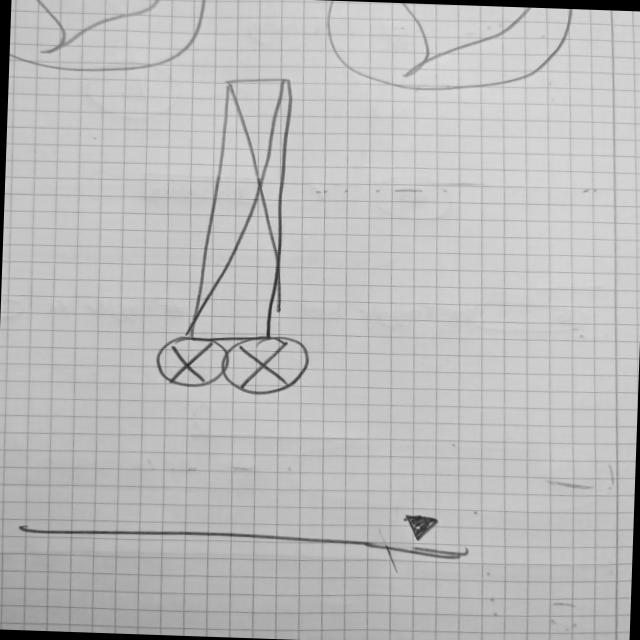icon-button: (323, 1, 576, 99), (9, 1, 212, 81)
image: (189, 73, 299, 345), (220, 335, 316, 399), (154, 335, 233, 390)
select: (12, 498, 472, 564)
